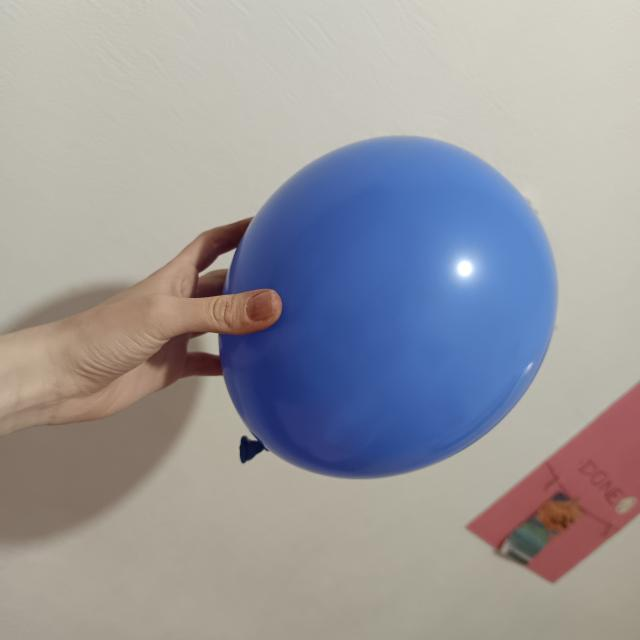blue: (220, 137, 559, 482)
